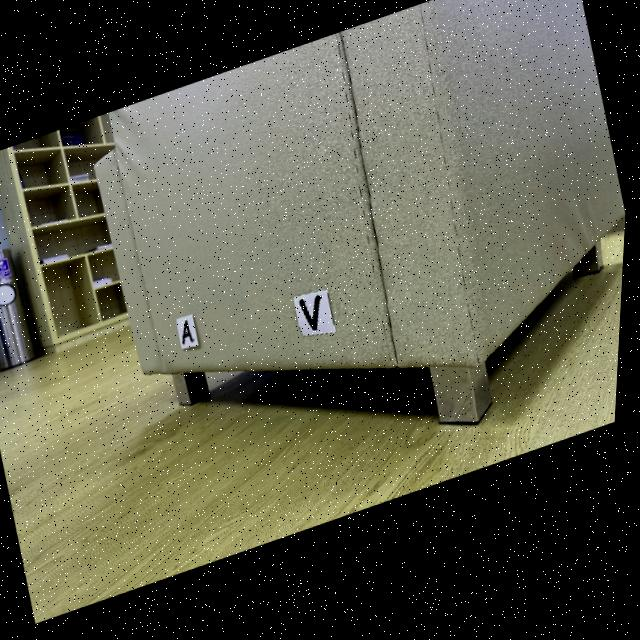A: (187, 324, 197, 349)
V: (303, 302, 325, 337)
